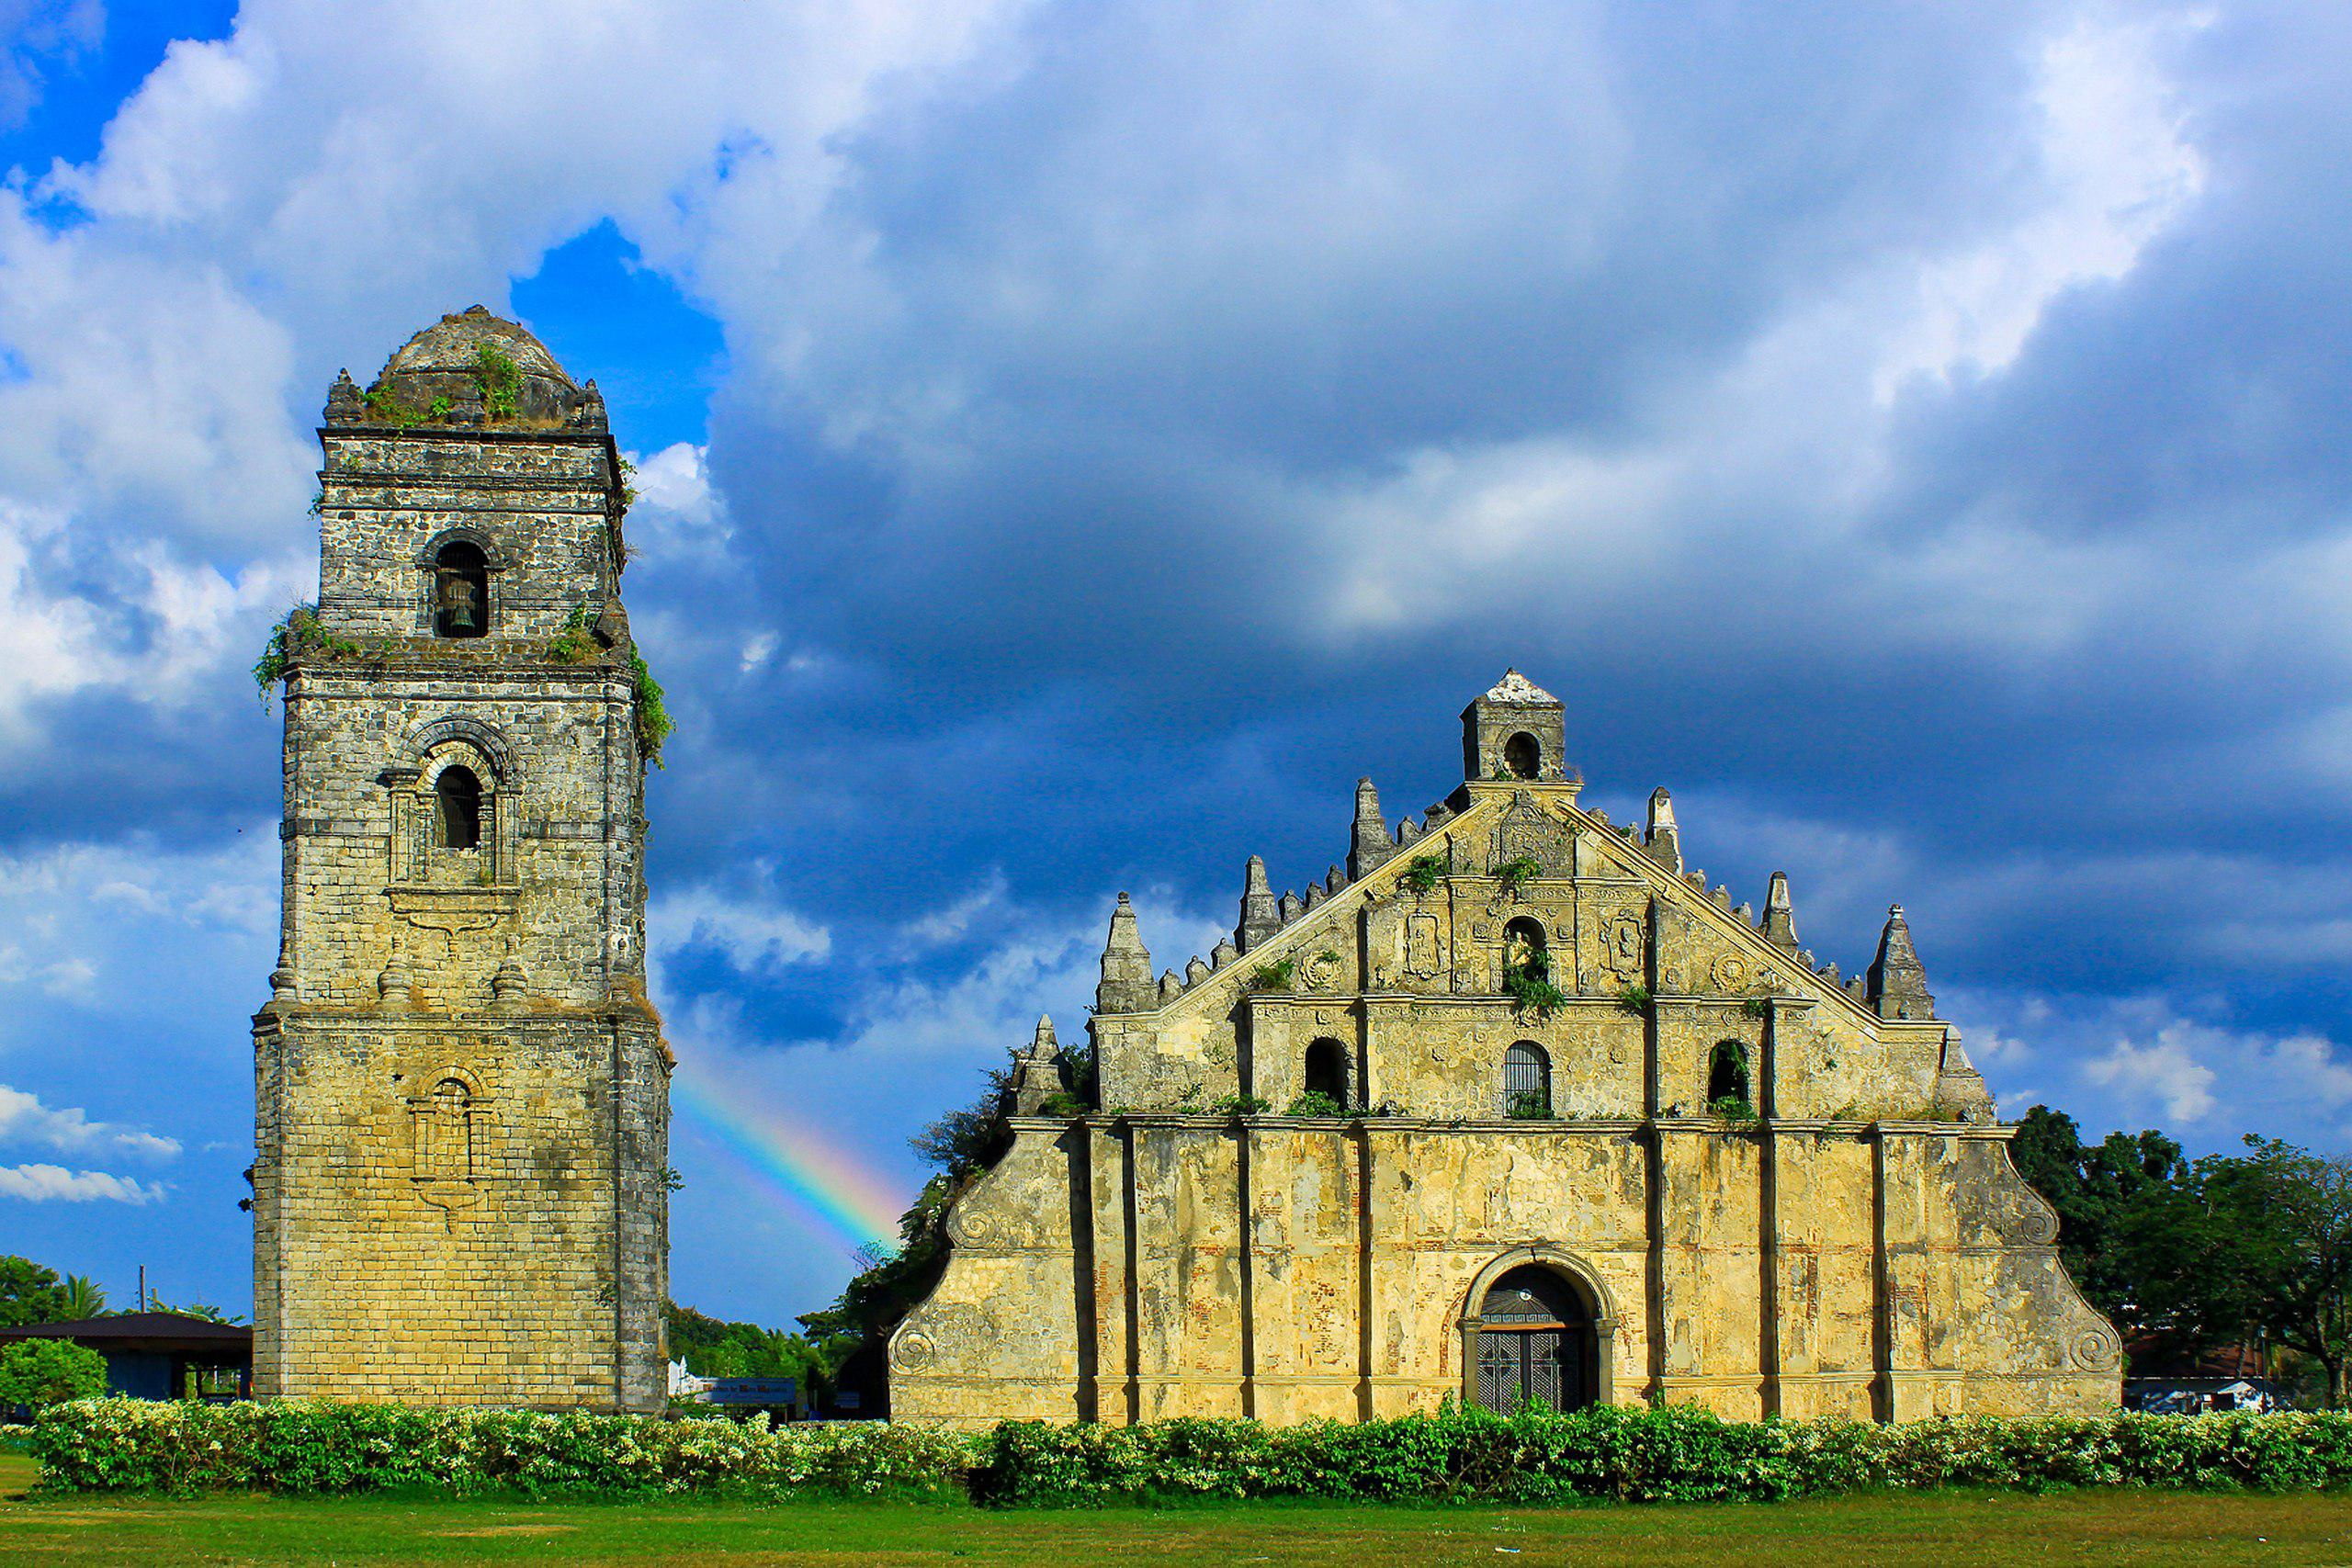paoay_church_paoay_ilocos_norte: (215, 289, 2149, 1489)
vegetation_damage: (597, 651, 686, 765), (467, 336, 535, 434), (1491, 952, 1577, 1022), (1267, 1083, 1372, 1132), (1235, 947, 1309, 1004), (1400, 856, 1480, 900)
